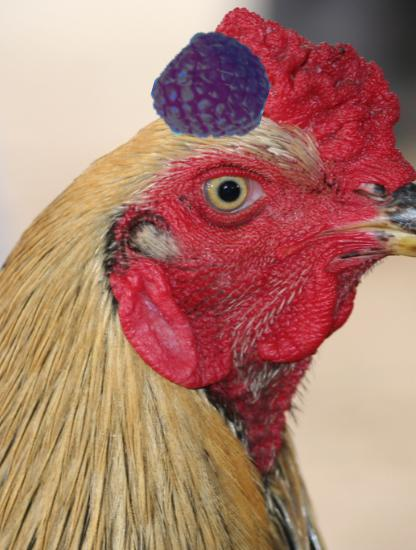Raspberry: (155, 31, 268, 144)
